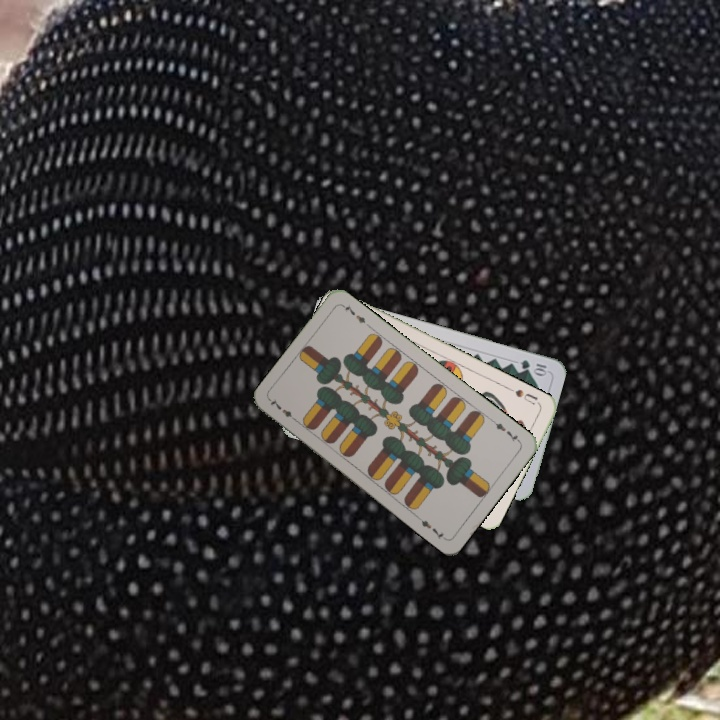E7: (266, 394, 301, 425), (488, 416, 523, 445)
G10: (516, 356, 551, 378)
SU: (504, 384, 542, 408)
